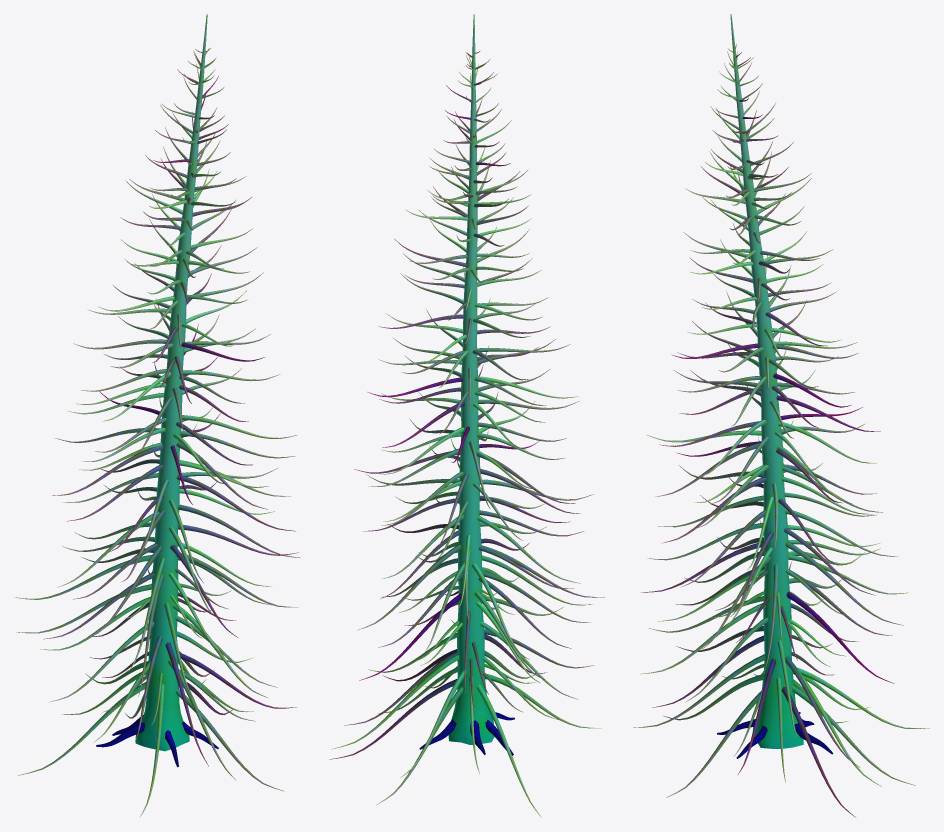
The model's file is spruce-hero.glb.
The picture shows the model from 3 angles, left to right: view 1: azimuth 30°, elevation 25°; view 2: azimuth 150°, elevation 25°; view 3: azimuth 270°, elevation 25°; orthographic projection. The views are drawn at different scales.
Visible parts, largest first — view 1: bark; view 2: bark; view 3: bark.
Part boxes in pixels (left/top/right/bottom): bark: left=14, top=14, right=300, bottom=817; bark: left=329, top=14, right=604, bottom=817; bark: left=633, top=14, right=929, bottom=817.
Size of the model in its own units: 10.13 by 32.86 by 11.48.
